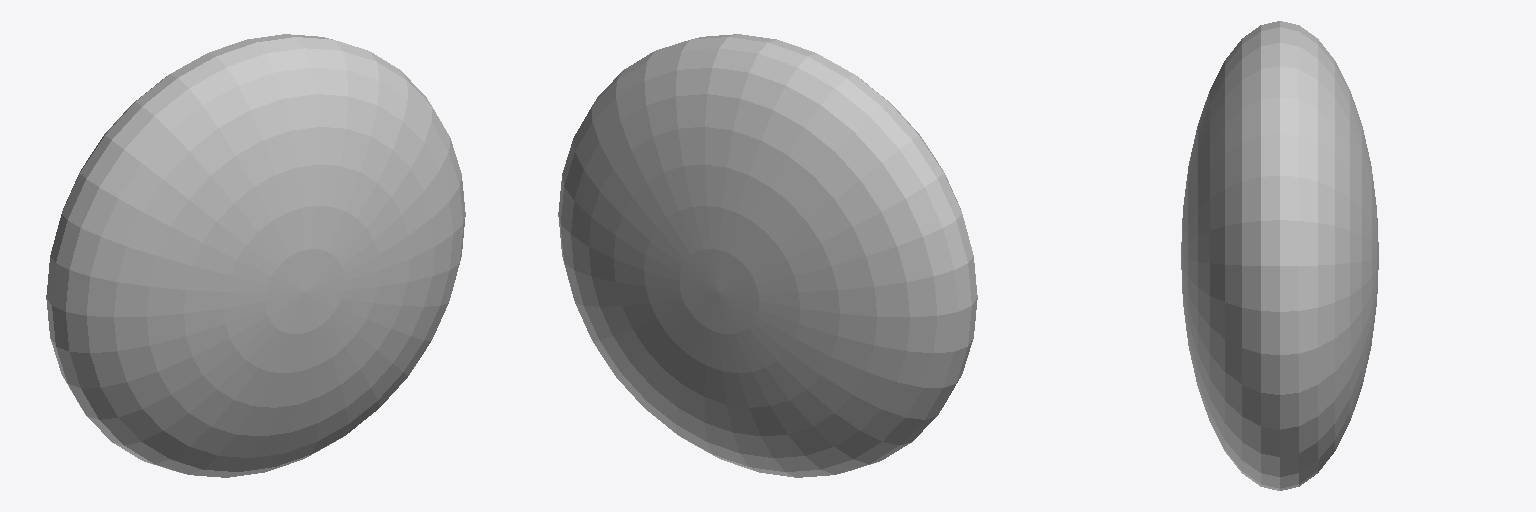
File: cloud.obj
3 renders of one model, left to right at view 1: azimuth 30°, elevation 25°; view 2: azimuth 150°, elevation 25°; view 3: azimuth 270°, elevation 25°, orthographic.
Visible parts, largest first — view 1: Sphere; view 2: Sphere; view 3: Sphere.
Part boxes in pixels (bbox=[...]): Sphere: bbox=[46, 34, 465, 477]; Sphere: bbox=[558, 34, 977, 477]; Sphere: bbox=[1181, 21, 1378, 490].
Size of the model in its own units: 2 by 2 by 0.8413.